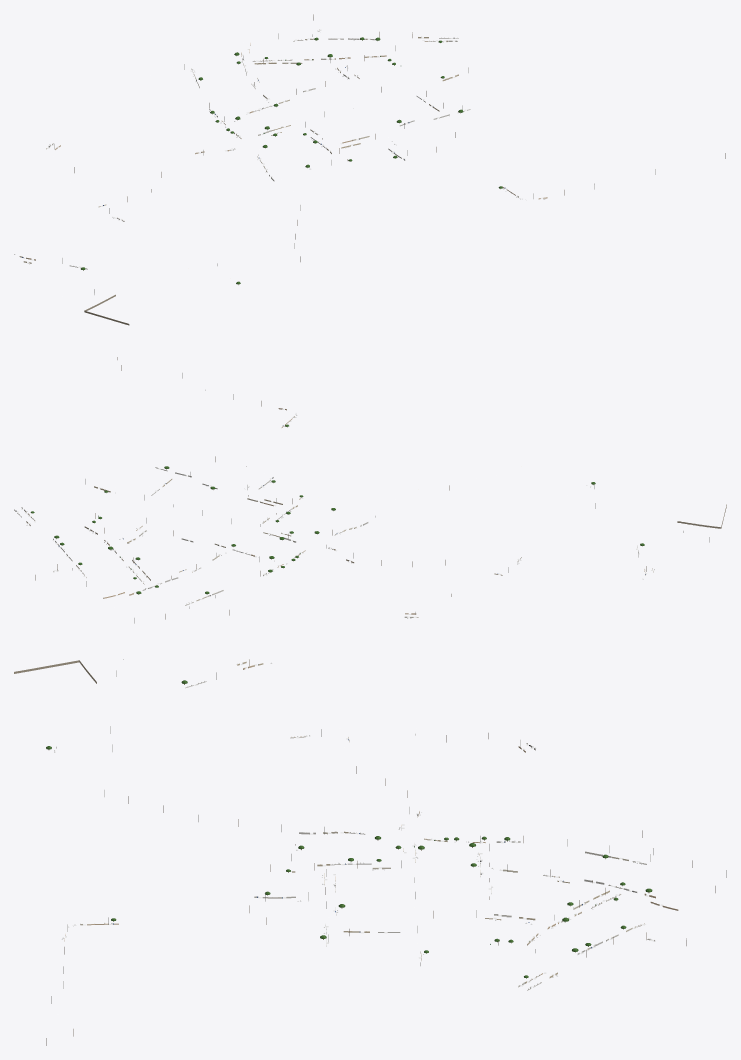
Rendered from nd_stm_m7_m7.glb.
3 views of the same model, one above another, from view 1: azimuth 30°, elevation 25°; view 2: azimuth 150°, elevation 25°; view 3: azimuth 270°, elevation 25° (orthographic). The views are drawn at different scales.
Visible parts, largest first — view 1: nd_stm_m7_m7_lod0; view 2: nd_stm_m7_m7_lod0; view 3: nd_stm_m7_m7_lod0.
Boxes of the visible parts, <box> form: nd_stm_m7_m7_lod0: <box>14,14,725,325</box>; nd_stm_m7_m7_lod0: <box>14,357,726,623</box>; nd_stm_m7_m7_lod0: <box>14,652,726,1045</box>.
Size of what is drawn, in the model's own units: 913 by 32.47 by 689.
